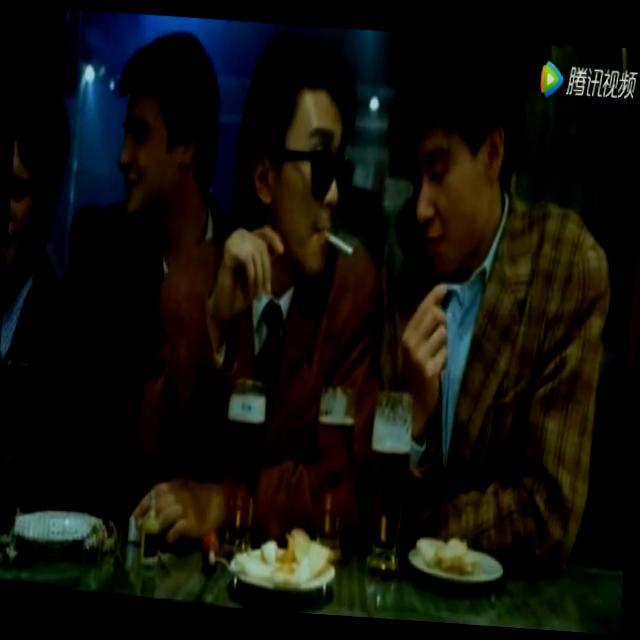smoke: (327, 232, 352, 259)
